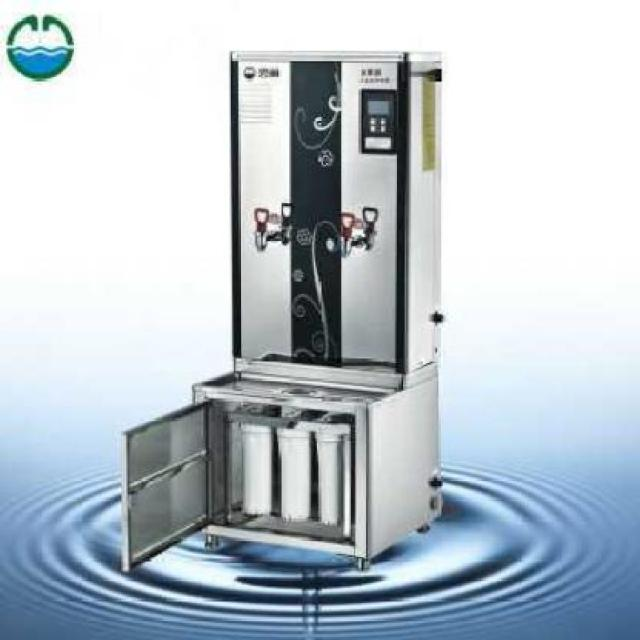cooler: (189, 46, 447, 560)
